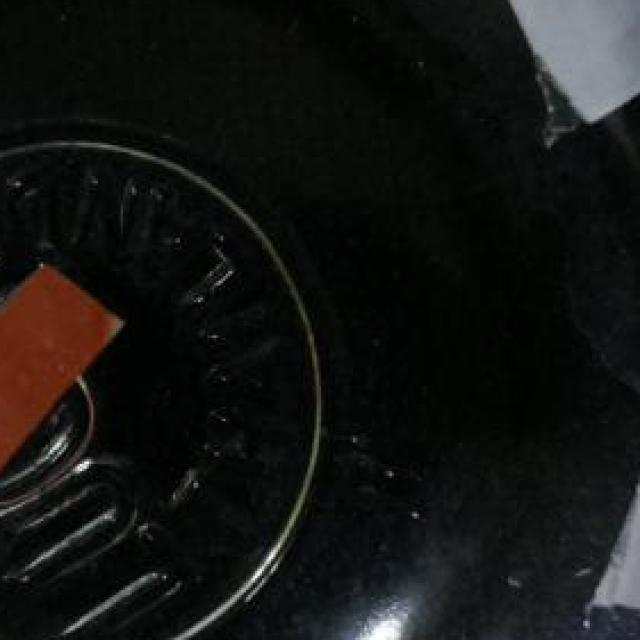Microplastic: (0, 242, 134, 516), (480, 0, 640, 131), (576, 409, 640, 640)
